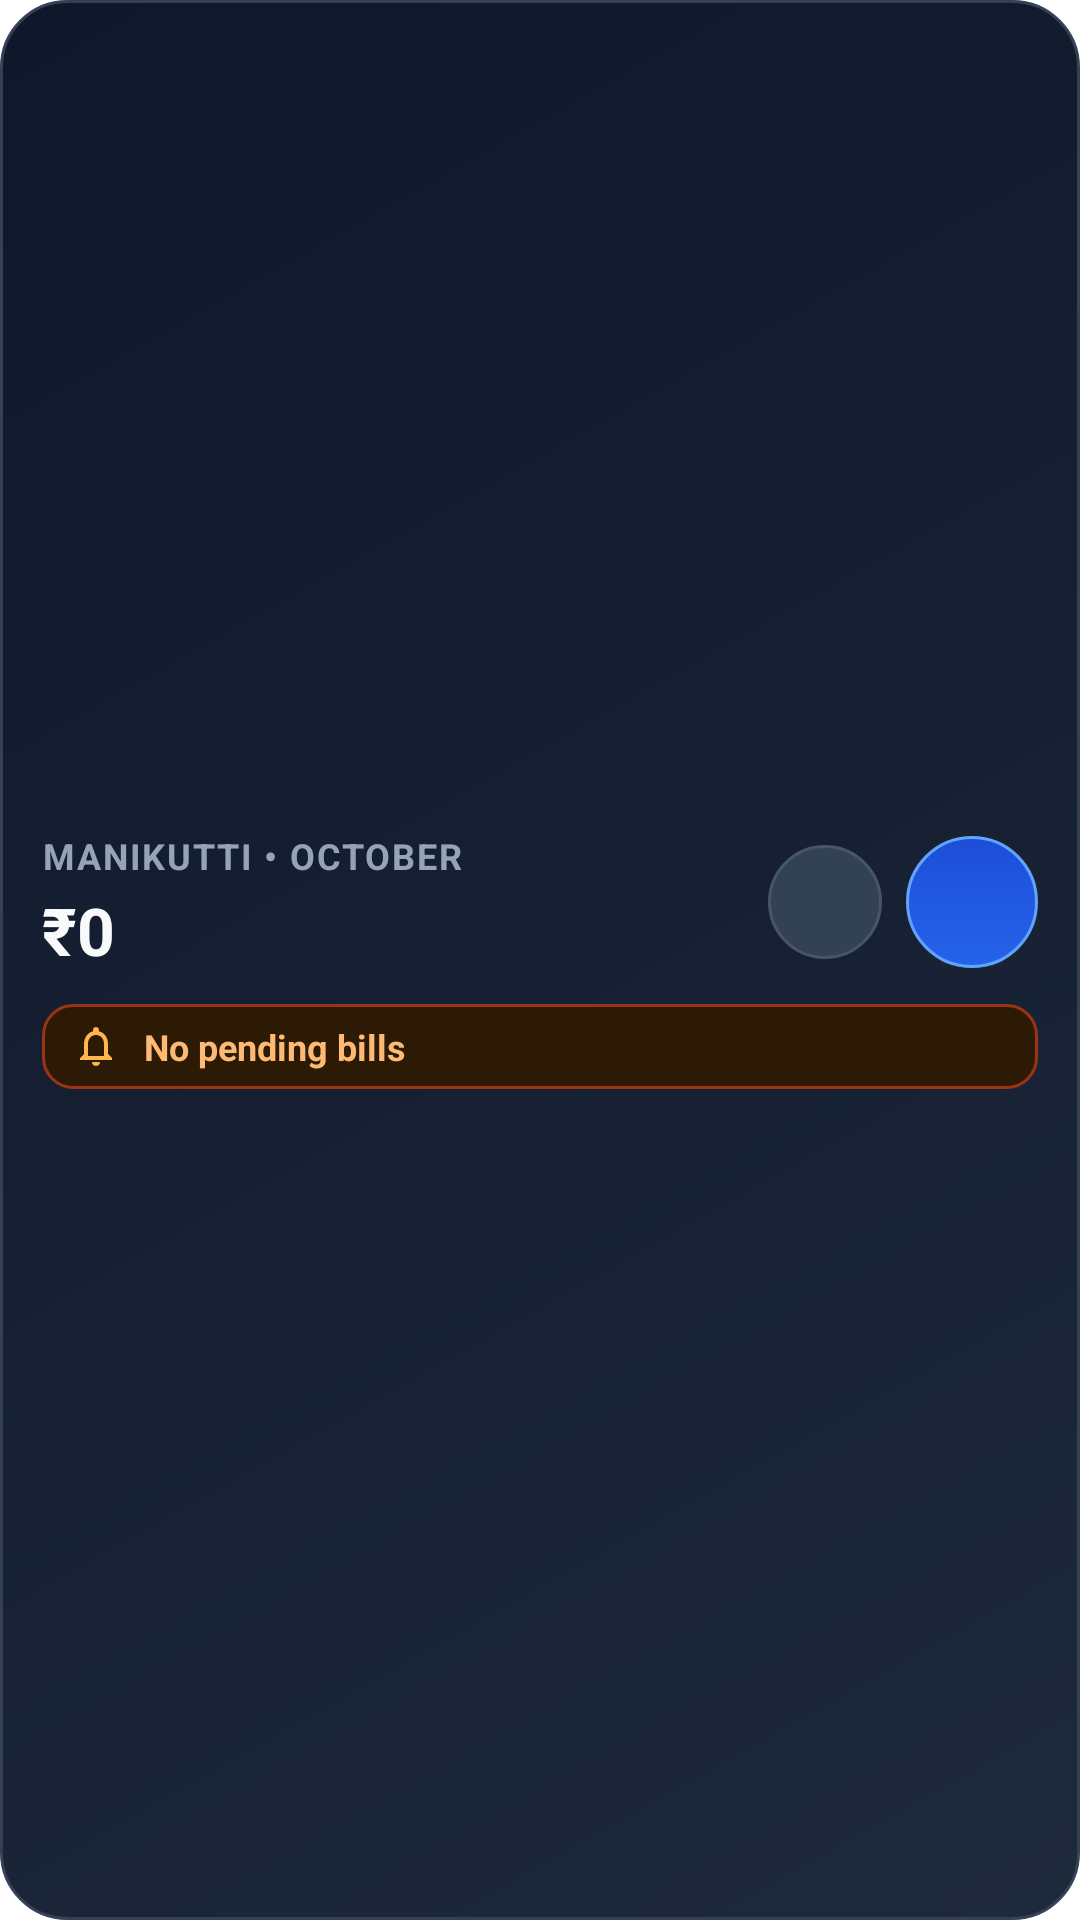

Screen size 1080px×1920px. Icon name, then its box in pixels as detection(x1, y1, x2, y2):
Bill Alert: detection(80, 1027, 112, 1066)
